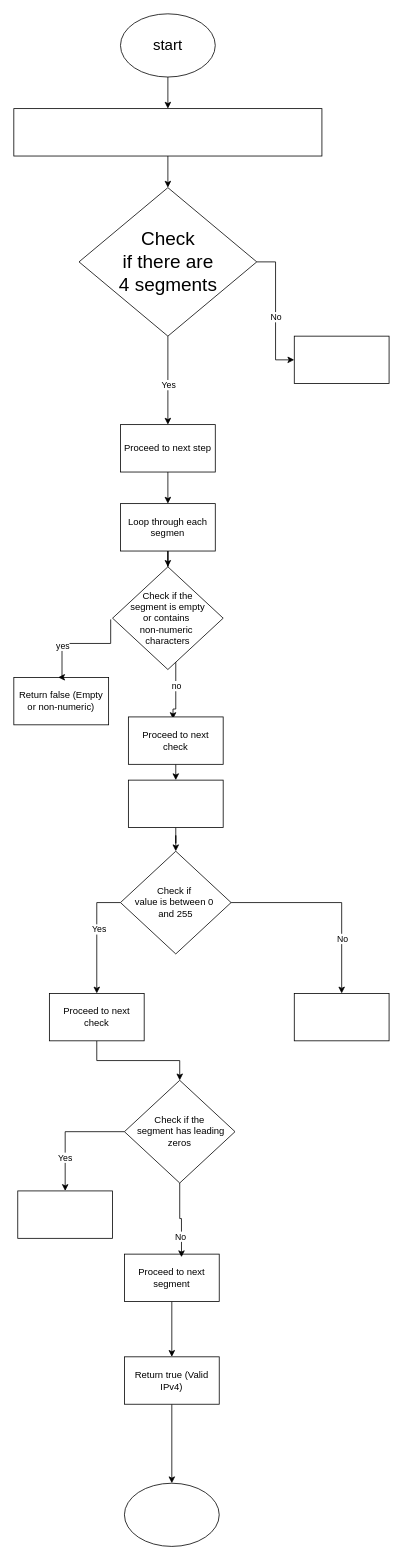
Image size: 403x1560. Some labels were removed from this diagram. Here are the shapes that lost their labels. From the top down, the centre of each, then its label:
(167,132): Split address "."
(341,359): Return false (Invalid)
(175,803): Convert segment to integer
(341,1017): Return false (Out of range)
(65,1214): Return false (Leading zeros)
(171,1514): end
